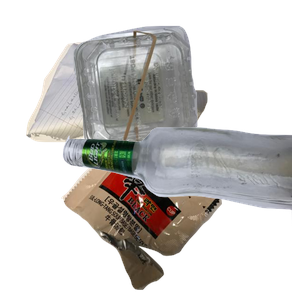glass: (60, 124, 300, 300)
paper: (23, 40, 223, 180)
plastic: (71, 23, 300, 169)
trash: (59, 124, 273, 300)
